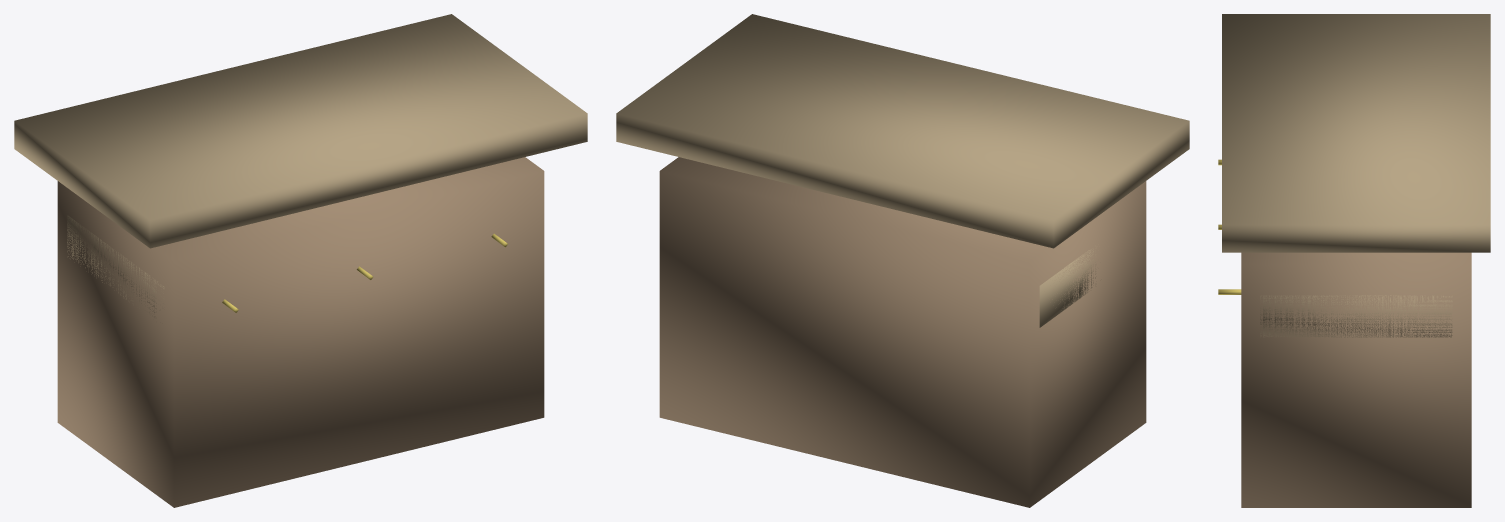
File: furn_workbench.glb
3 renders of one model, left to right at view 1: azimuth 30°, elevation 25°; view 2: azimuth 150°, elevation 25°; view 3: azimuth 270°, elevation 25°, orthographic.
Visible parts, largest first — view 1: body, top, drawer0; view 2: body, top, drawer0; view 3: top, body, drawer2.
Boxes of the visible parts, x1,y1,x2,y2 form: body: [57, 157, 544, 507]; top: [14, 14, 587, 248]; drawer0: [67, 215, 164, 319]; body: [659, 157, 1146, 507]; top: [616, 14, 1189, 248]; drawer0: [1039, 249, 1098, 327]; top: [1222, 14, 1490, 252]; body: [1241, 252, 1471, 507]; drawer2: [1260, 295, 1452, 337].
Bounding box in the file's own units: 1.3 × 0.86 × 0.71.
